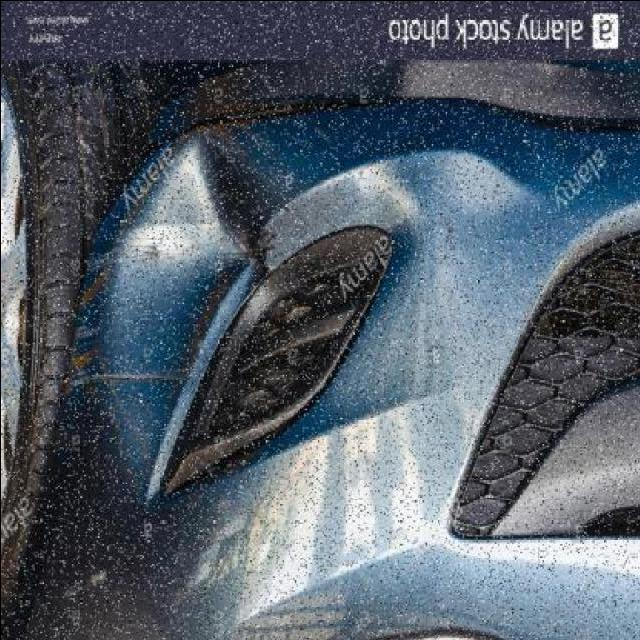front-bumper-dent: (44, 52, 508, 542)
